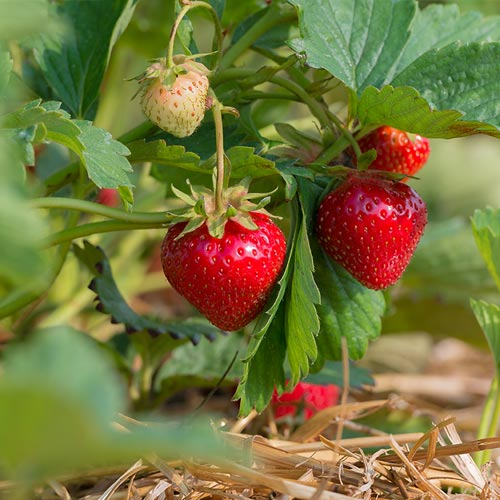ripe_strawberry: (160, 199, 288, 334), (314, 171, 430, 293), (346, 124, 431, 186), (268, 381, 345, 423)
unripe_strawberry: (140, 62, 213, 141)
